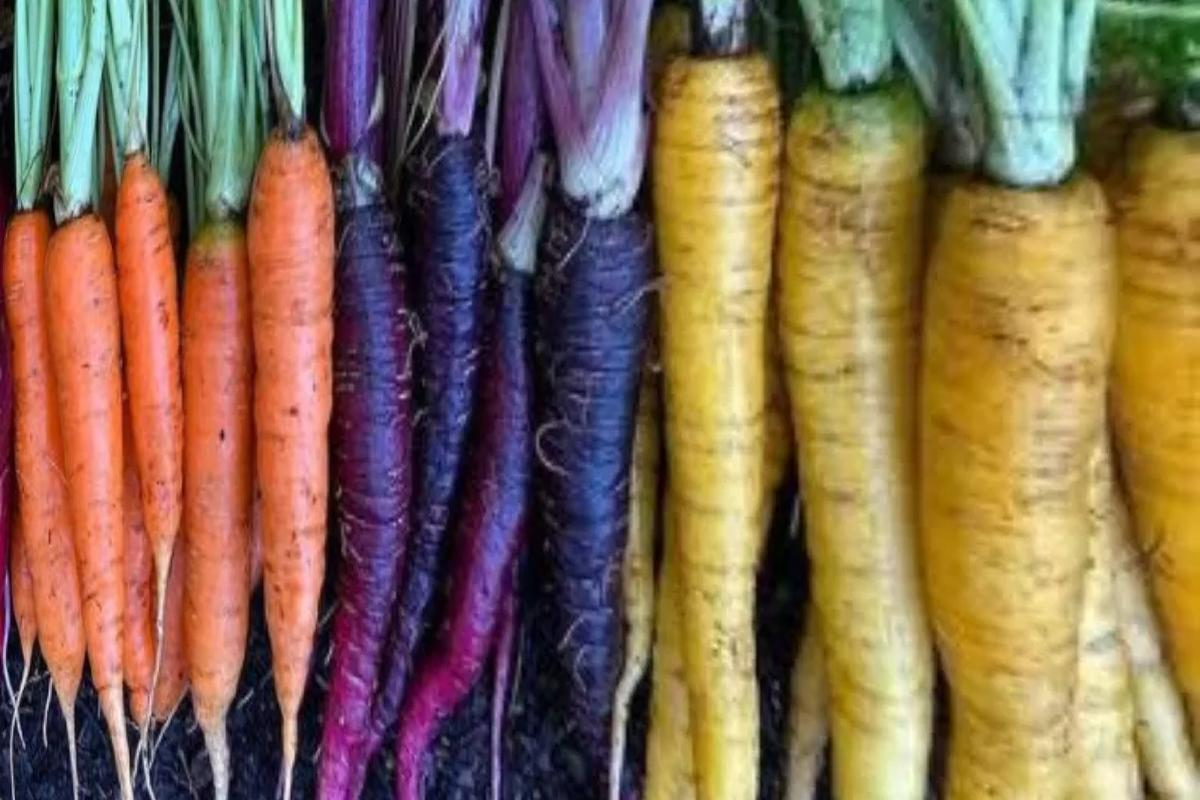carrot: (0, 1, 321, 722), (34, 123, 303, 799), (122, 0, 238, 800), (8, 1, 119, 800), (238, 3, 330, 800)
